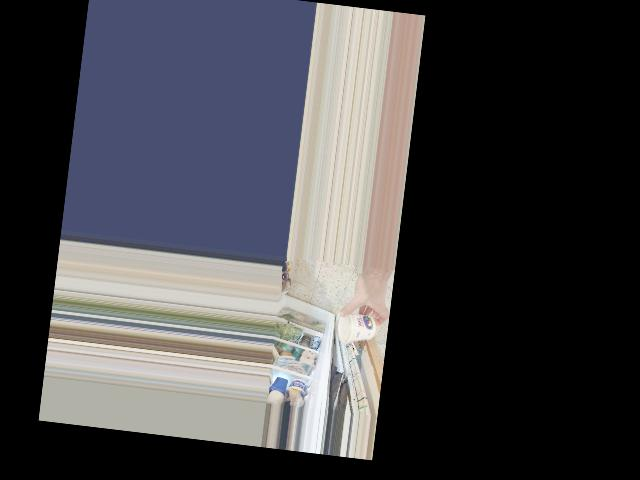cotage: (335, 306, 379, 347)
